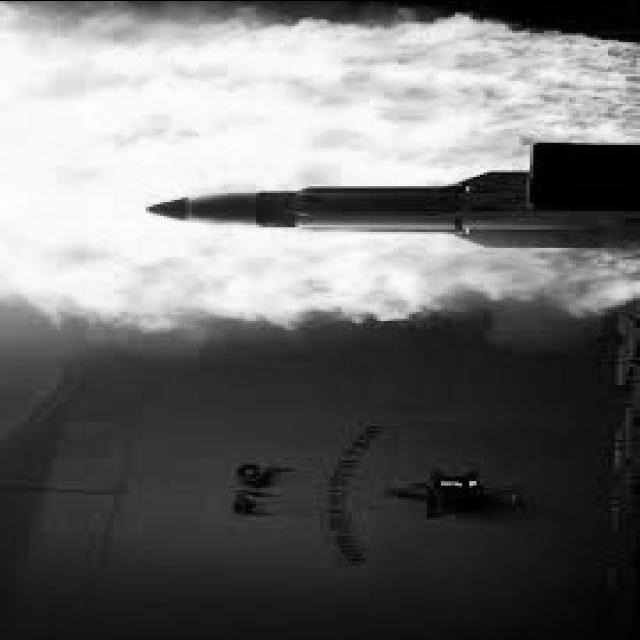missile: (128, 166, 628, 256), (282, 210, 602, 232)
